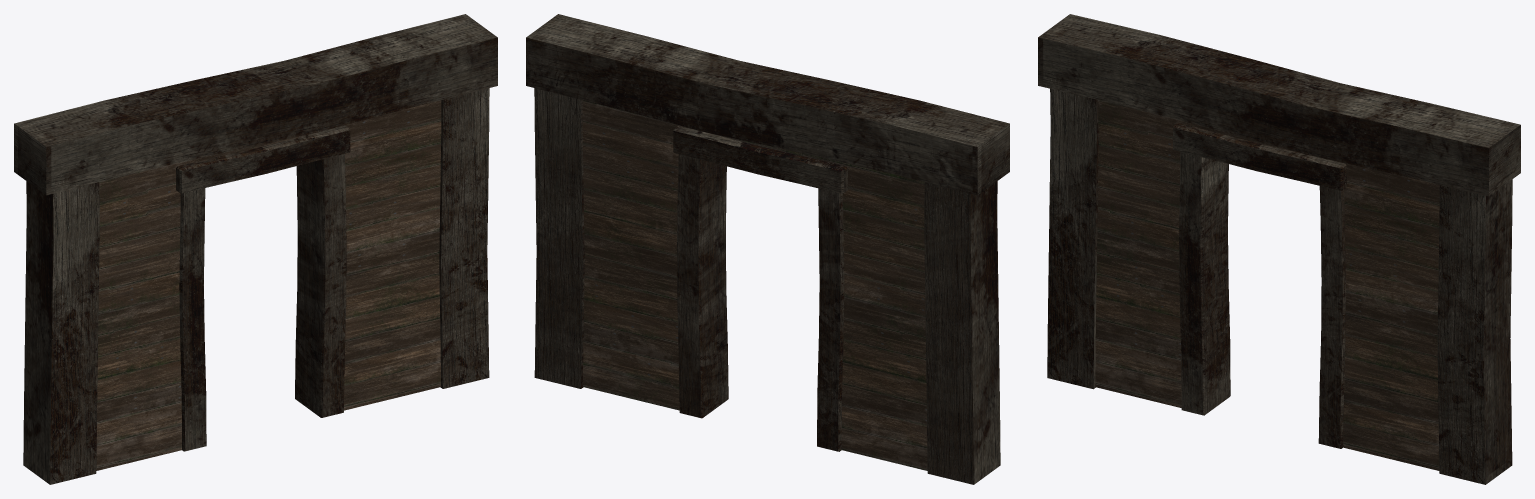
File: WoodWallDoor2.fbx
3 views of the same model, side by side, from view 1: azimuth 30°, elevation 25°; view 2: azimuth 150°, elevation 25°; view 3: azimuth 330°, elevation 25° (orthographic).
Parts seen in each view (by area): view 1: Wood Wall Door 3m; view 2: Wood Wall Door 3m; view 3: Wood Wall Door 3m.
Boxes of the visible parts, box(x1,y1,x2,y2) form: Wood Wall Door 3m: box(14, 14, 497, 484); Wood Wall Door 3m: box(526, 14, 1009, 484); Wood Wall Door 3m: box(1038, 14, 1520, 484).
Bounding box in the file's own units: 330 × 239 × 42.17.
